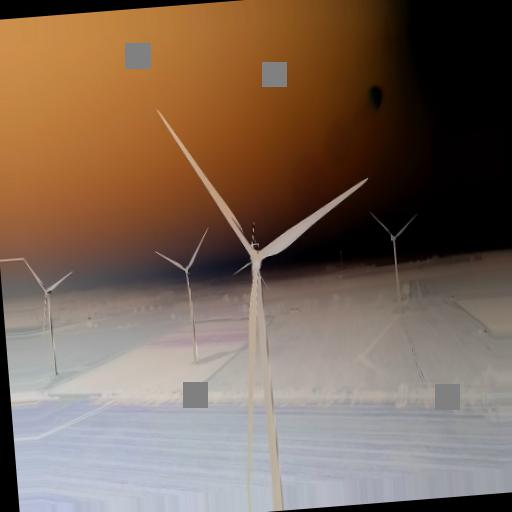wind turbine: (157, 110, 371, 510), (154, 225, 211, 359), (23, 255, 73, 375), (371, 212, 416, 307)
